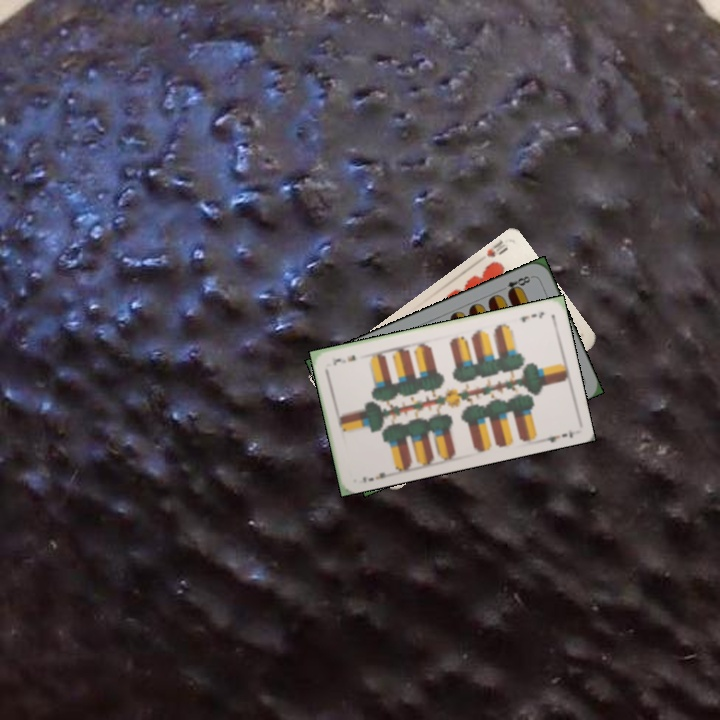E7: (359, 468, 393, 486), (517, 307, 547, 325)
E8: (496, 272, 535, 297)
H10: (482, 236, 510, 260)
